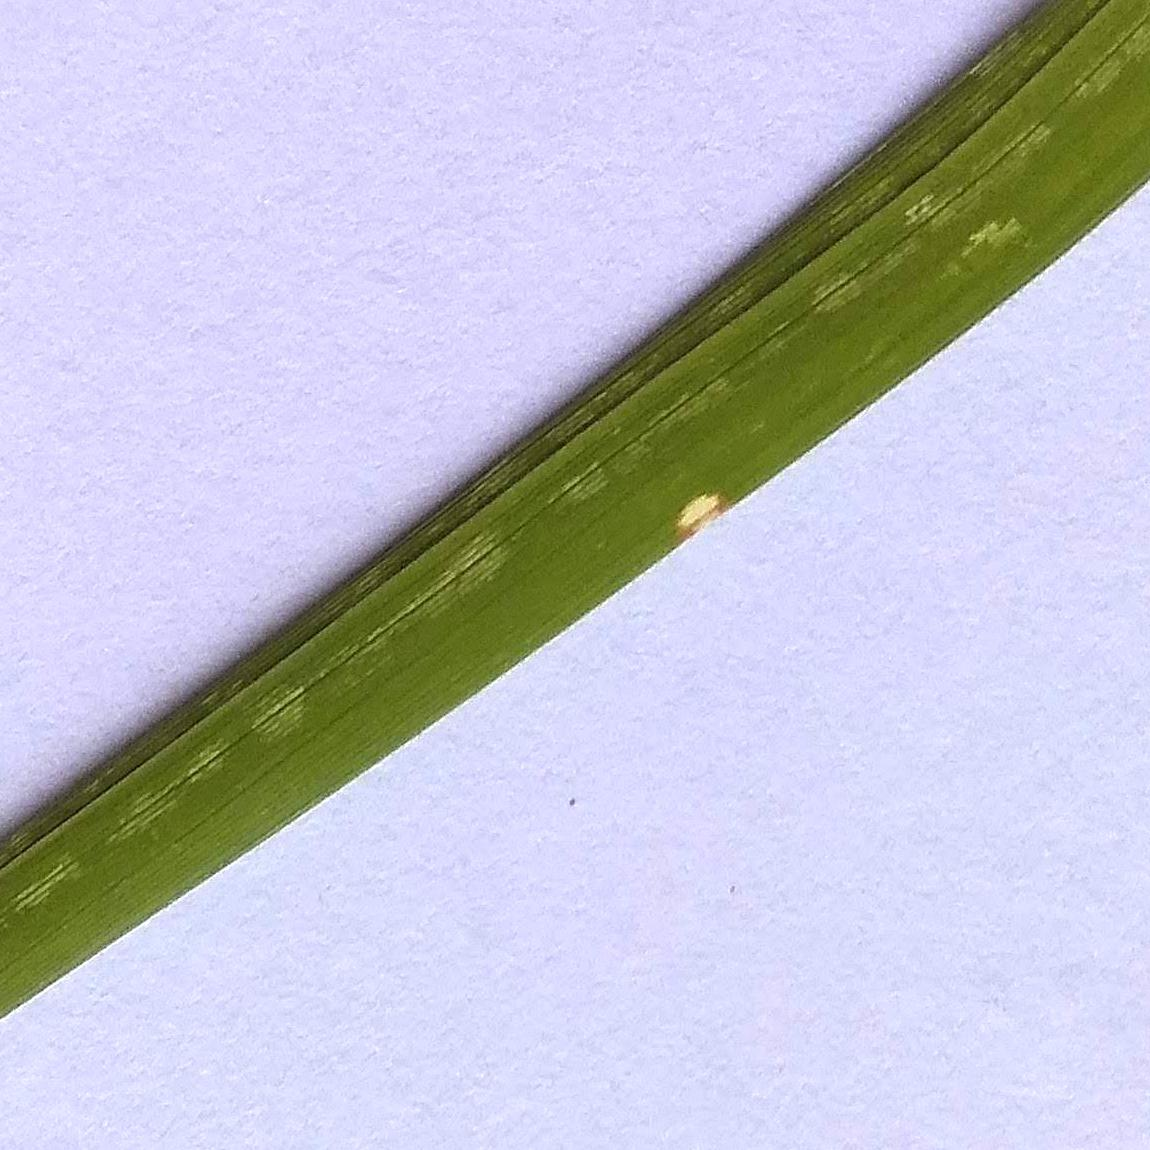1 RiceBlast: (653, 449, 736, 559)
